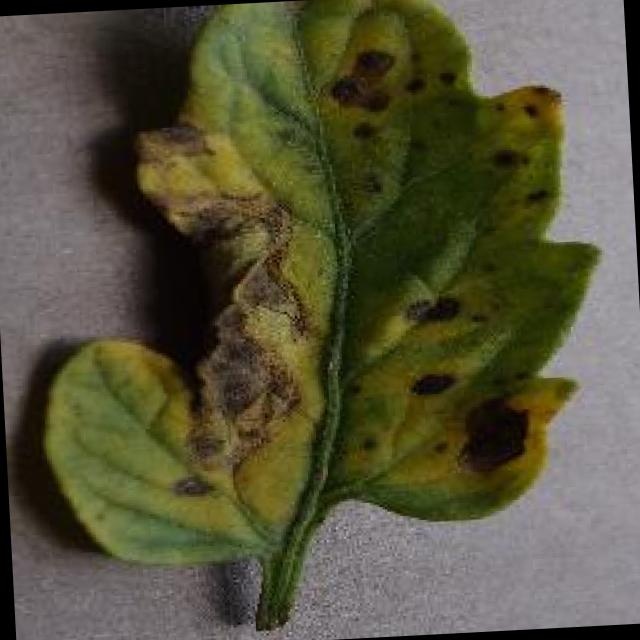Tomato_Early_Blight: (10, 0, 616, 559)
